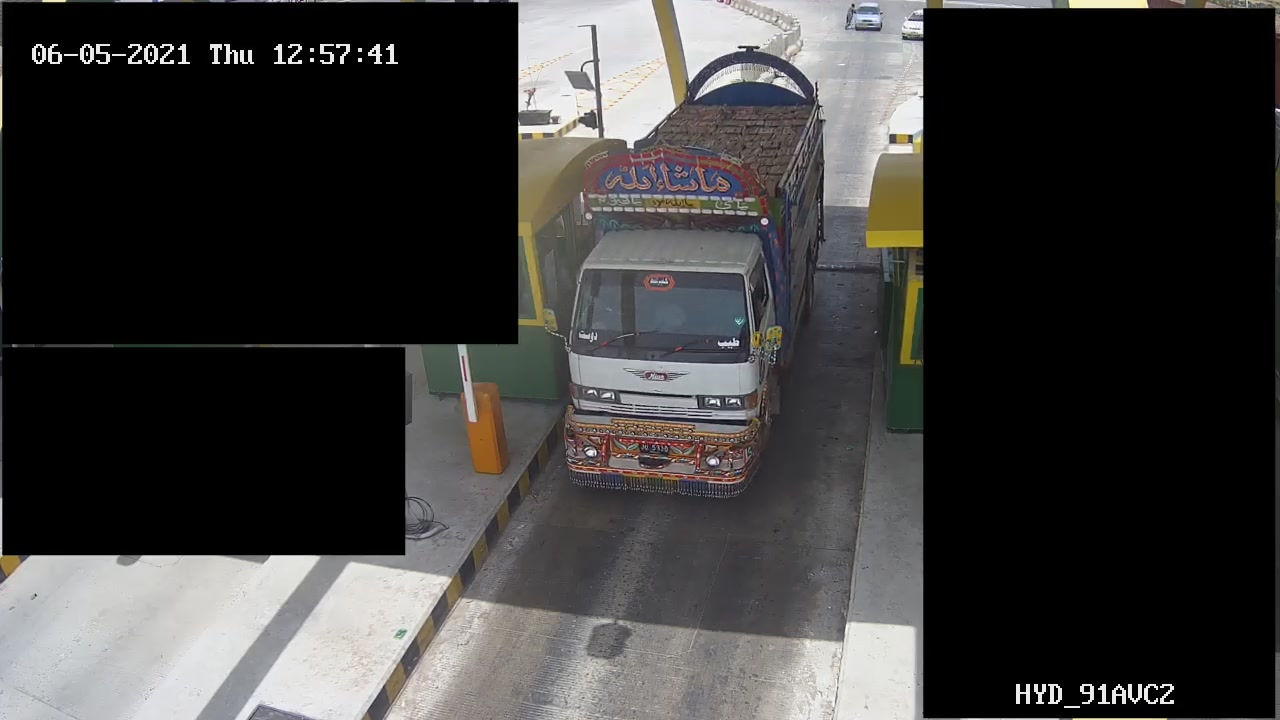F3: (562, 44, 828, 506)
